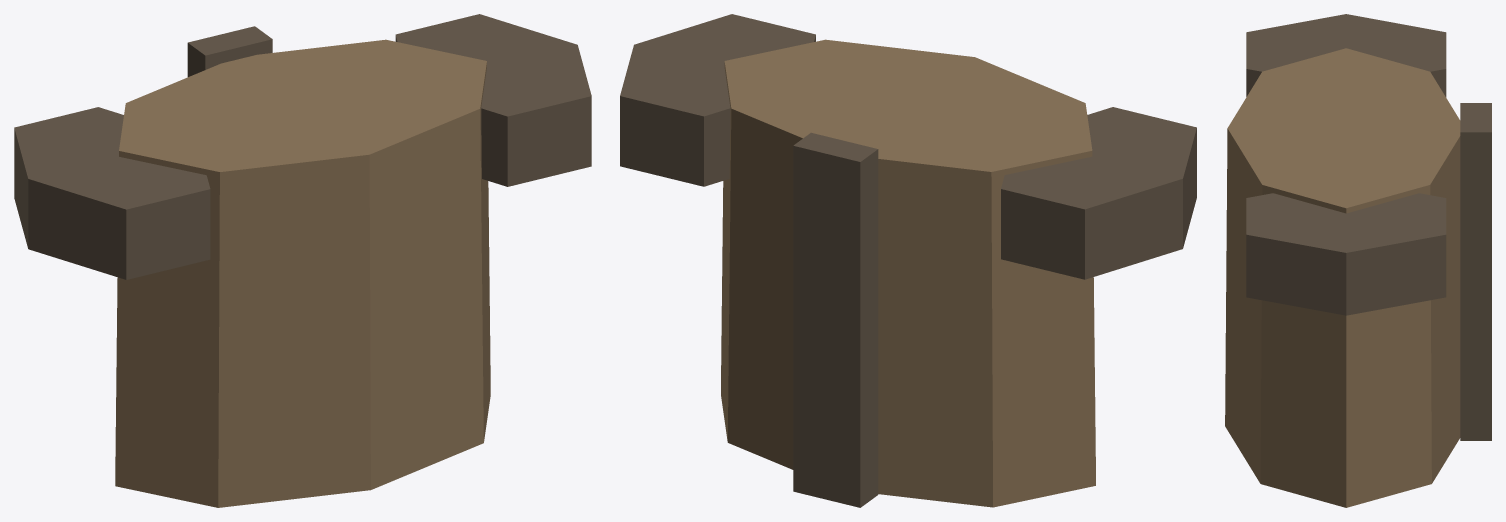
The model's file is Pawn_ArmorLeather.fbx.
3 renders of one model, left to right at view 1: azimuth 30°, elevation 25°; view 2: azimuth 150°, elevation 25°; view 3: azimuth 270°, elevation 25°, orthographic. The views are drawn at different scales.
Visible parts, largest first — view 1: Pawn_ArmorLeather; view 2: Pawn_ArmorLeather; view 3: Pawn_ArmorLeather.
Part boxes in pixels (<box>): Pawn_ArmorLeather: <box>14,14,591,507</box>; Pawn_ArmorLeather: <box>620,14,1196,507</box>; Pawn_ArmorLeather: <box>1225,14,1491,507</box>.
Bounding box in the file's own units: 0.98 × 0.59 × 0.4625.
